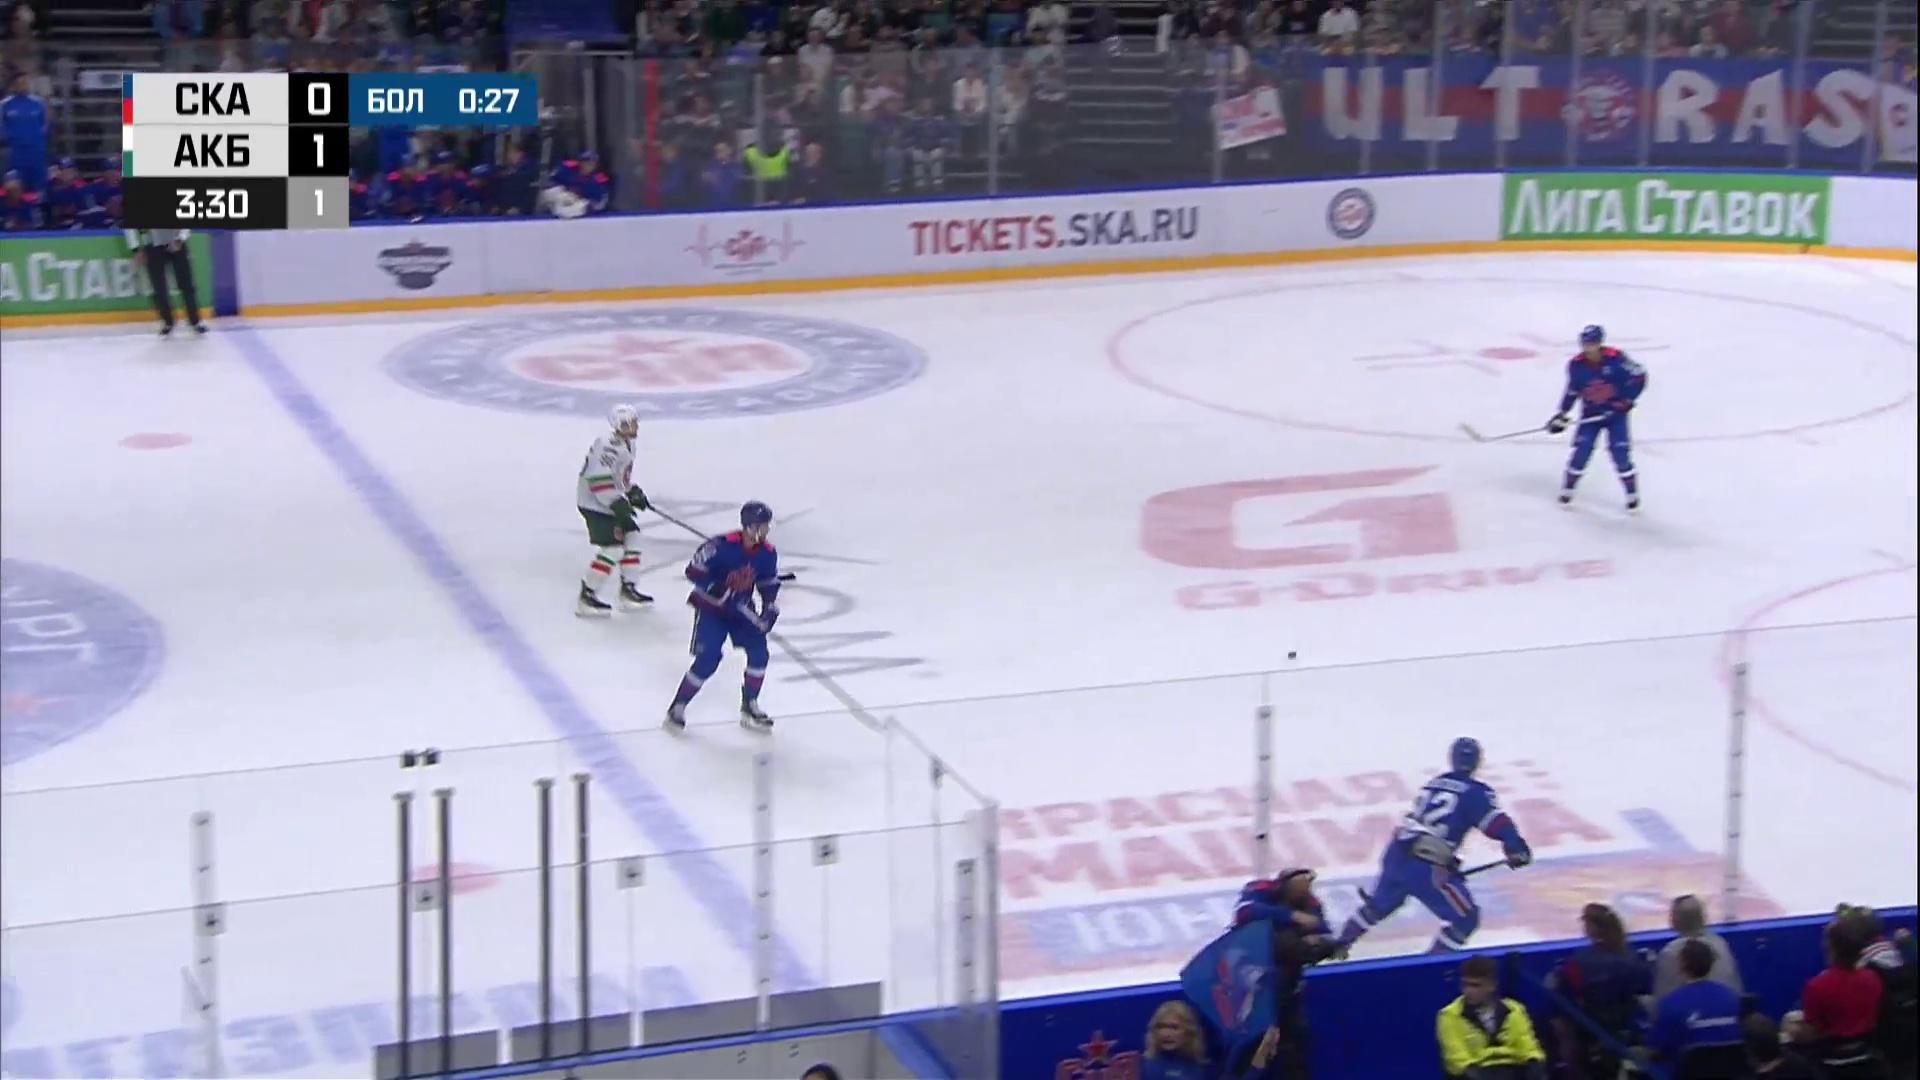ball: (1287, 650, 1298, 661)
